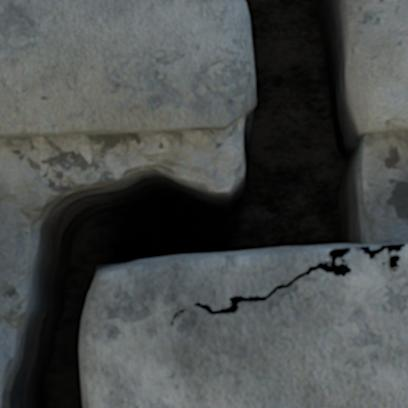brick: (80, 244, 407, 407), (370, 245, 380, 248)
broken_brick: (0, 0, 253, 139), (348, 0, 407, 133)
crack: (0, 0, 405, 407)
